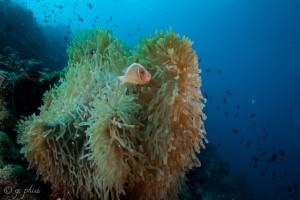bleached_corals: (19, 29, 206, 200)
